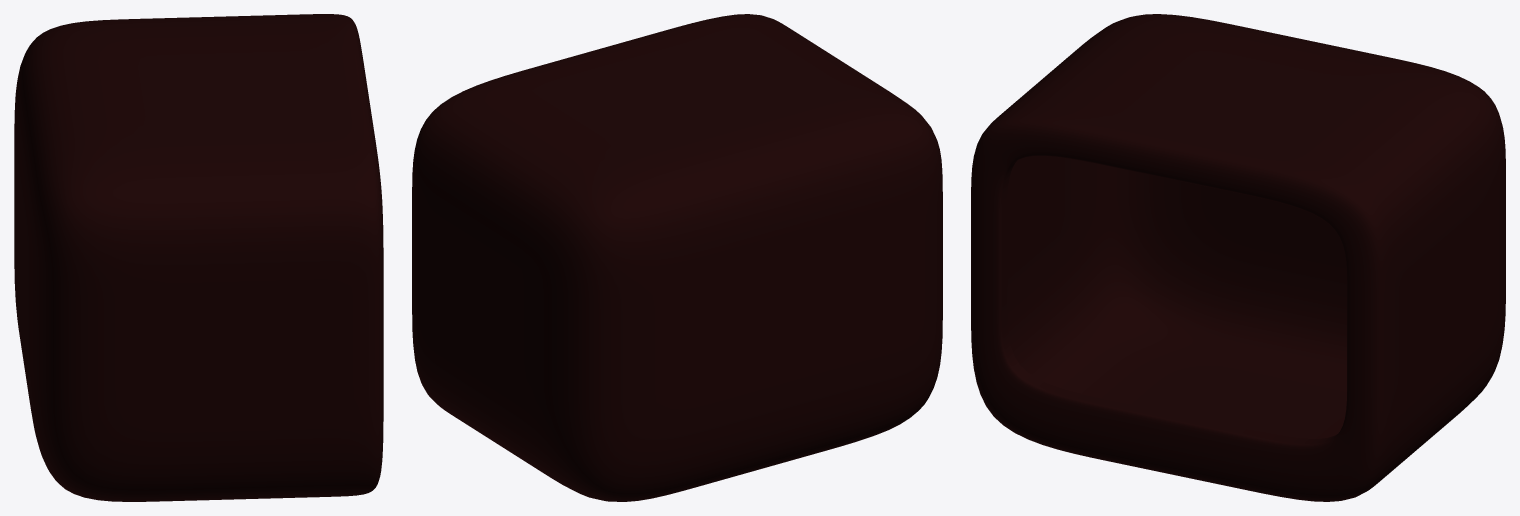
Rendered from retro-game-console-monitor.fbx.
3 views of the same model, side by side, from view 1: azimuth 30°, elevation 25°; view 2: azimuth 150°, elevation 25°; view 3: azimuth 270°, elevation 25° (orthographic). The views are drawn at different scales.
Parts seen in each view (by area): view 1: Cube.001; view 2: Cube.001; view 3: Cube.001.
Boxes of the visible parts, x1=… form: Cube.001: x1=14, y1=14, x2=383, y2=501; Cube.001: x1=412, y1=14, x2=942, y2=501; Cube.001: x1=971, y1=14, x2=1505, y2=501.
Size of the model in its own units: 270 by 208 by 302.
